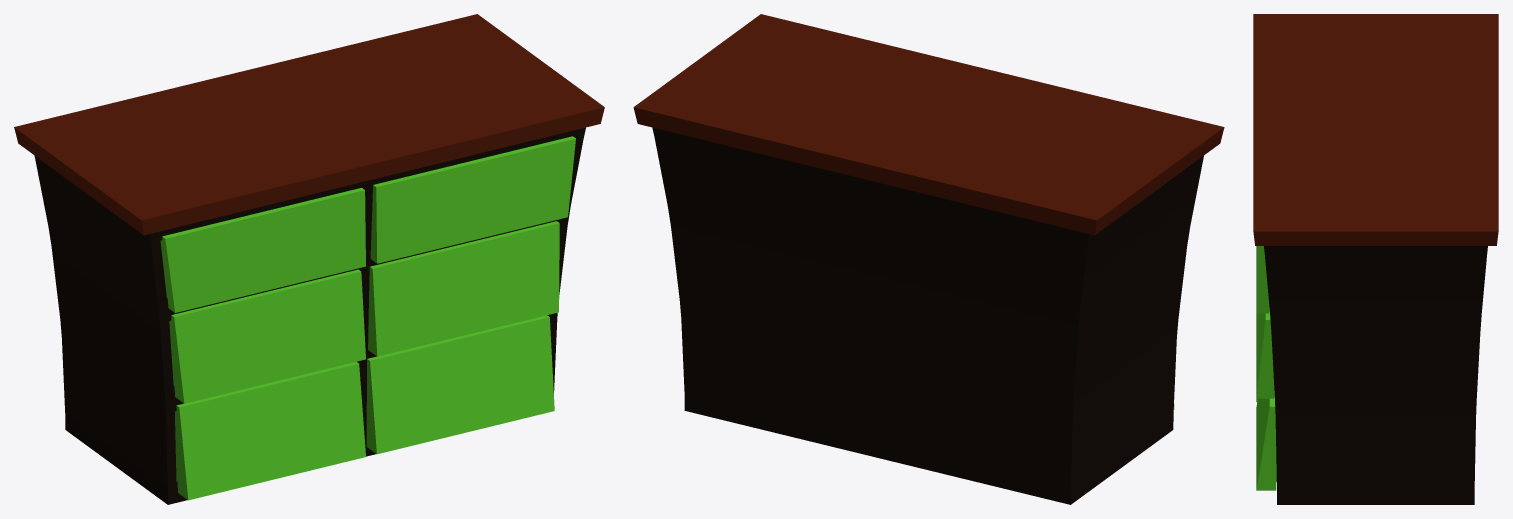
File: House_MasterBedRoom_Dresser.FBX
The picture shows the model from 3 angles, left to right: view 1: azimuth 30°, elevation 25°; view 2: azimuth 150°, elevation 25°; view 3: azimuth 270°, elevation 25°; orthographic projection. The views are drawn at different scales.
Parts seen in each view (by area): view 1: House_MasterBedRoom_Dresser_body, House_MasterBedRoom_Dresser_drawer5, House_MasterBedRoom_Dresser_drawer6, House_MasterBedRoom_Dresser_drawer3, House_MasterBedRoom_Dresser_drawer4, House_MasterBedRoom_Dresser_drawer1, House_MasterBedRoom_Dresser_drawer2; view 2: House_MasterBedRoom_Dresser_body; view 3: House_MasterBedRoom_Dresser_body, House_MasterBedRoom_Dresser_drawer6, House_MasterBedRoom_Dresser_drawer4, House_MasterBedRoom_Dresser_drawer2.
Boxes of the visible parts, x1,y1,x2,y2 form: House_MasterBedRoom_Dresser_body: (14,14,604,504); House_MasterBedRoom_Dresser_drawer5: (175,362,365,500); House_MasterBedRoom_Dresser_drawer6: (366,315,554,454); House_MasterBedRoom_Dresser_drawer3: (169,269,365,403); House_MasterBedRoom_Dresser_drawer4: (368,221,559,356); House_MasterBedRoom_Dresser_drawer1: (160,187,365,312); House_MasterBedRoom_Dresser_drawer2: (370,136,575,263); House_MasterBedRoom_Dresser_body: (633,14,1224,504); House_MasterBedRoom_Dresser_body: (1253,14,1498,504); House_MasterBedRoom_Dresser_drawer6: (1256,391,1276,490); House_MasterBedRoom_Dresser_drawer4: (1256,308,1274,398); House_MasterBedRoom_Dresser_drawer2: (1256,246,1269,313).
Size of the model in its own units: 294 by 184 by 140.
